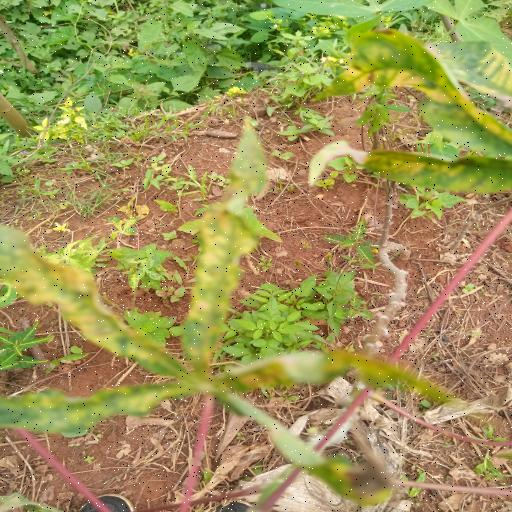Cassava_Mosaic: (0, 130, 453, 439)
